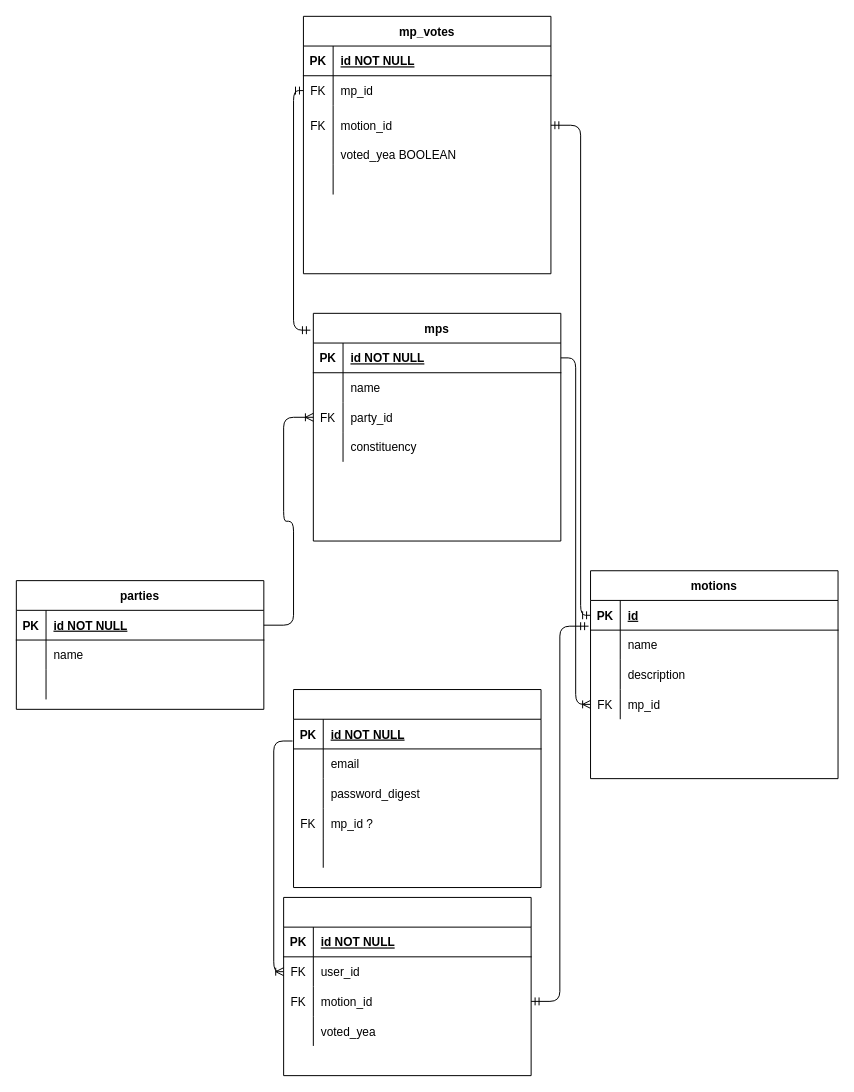
Some shapes in this 854 by 1092 pixel diagram are drawn without their labels. Each missing label, with the box of its shape:
user_votes: (283, 896, 531, 1076)
users: (293, 689, 541, 888)
